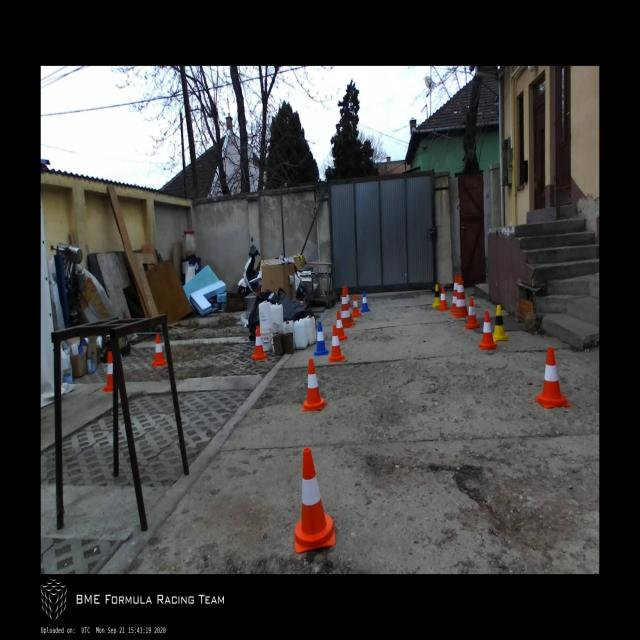blue_cone: (314, 322, 329, 356), (360, 290, 370, 312)
large_orange_cone: (453, 276, 468, 318), (342, 289, 354, 328), (344, 286, 354, 324), (449, 274, 458, 314)
orange_cone: (295, 448, 336, 553), (534, 348, 570, 408), (301, 359, 327, 411), (479, 311, 498, 349), (329, 326, 344, 362), (464, 297, 480, 329), (152, 332, 167, 366), (252, 326, 267, 359), (103, 352, 113, 392), (337, 310, 348, 340), (438, 287, 449, 310), (352, 295, 361, 317)
yellow_cone: (493, 305, 509, 341), (432, 284, 440, 307)
